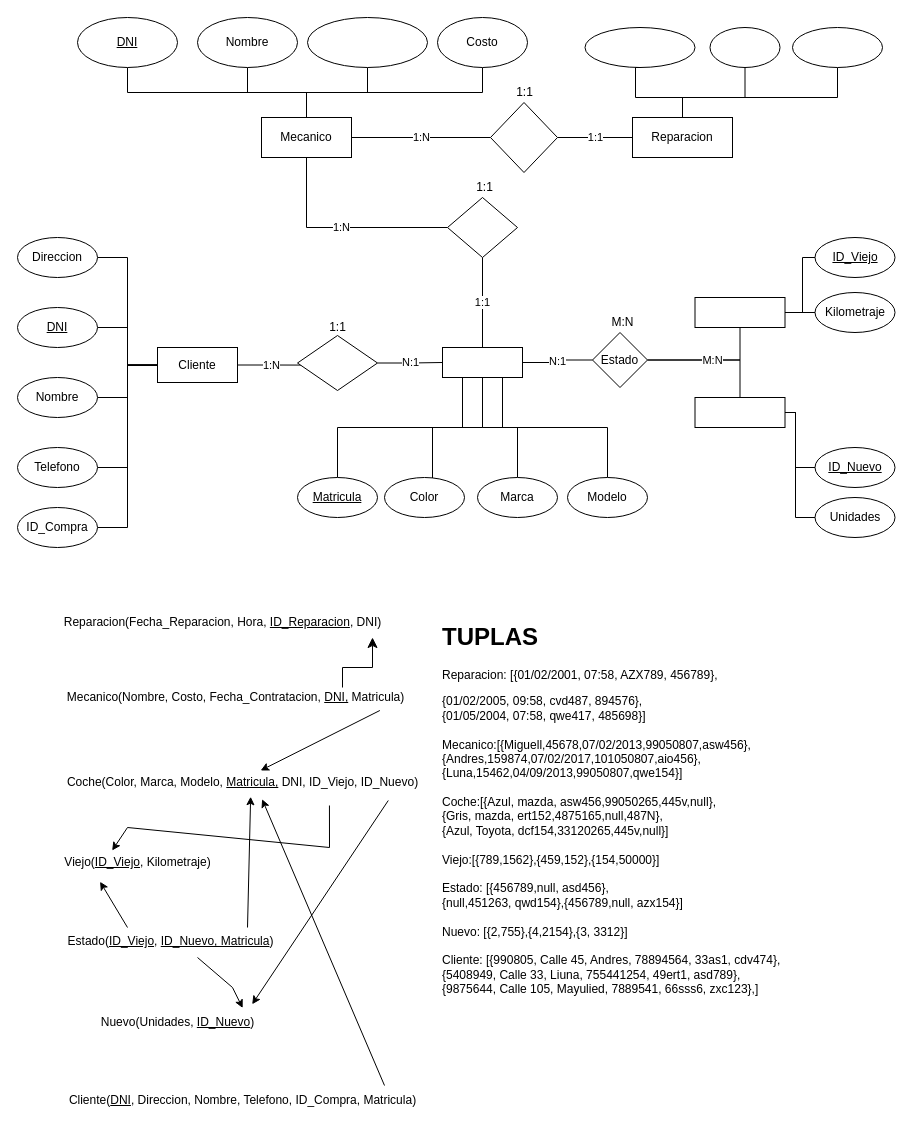
The diagram is 913 pixels wide and 1133 high, and some of its shapes have lost their labels. The shapes that lost their labels are listed below. From the top down, each one's centre as x and y in pixels, then its label:
the point at 367,42: Fecha_Contratacion
the point at 639,47: Fecha_Reparacion
the point at 744,47: Hora
the point at 837,47: ID_Reparacion
the point at 524,137: Realiza
the point at 482,227: Recibe
the point at 739,312: Viejo
the point at 337,362: Compra
the point at 482,362: Coche
the point at 739,412: Nuevo
